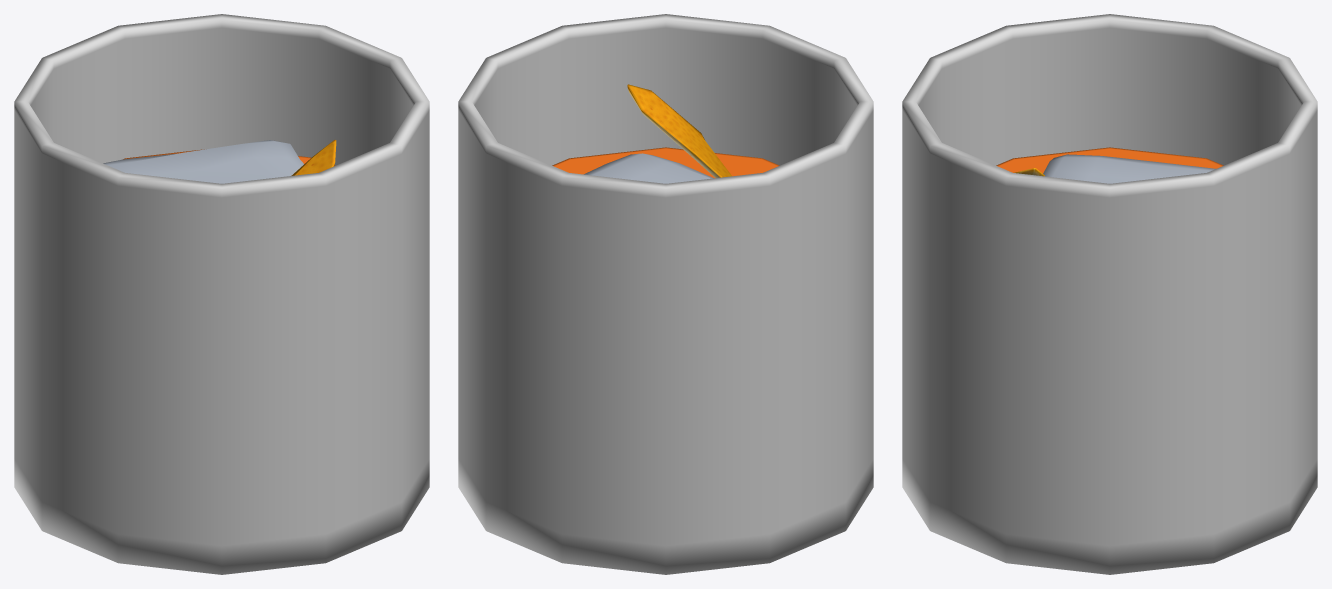
The model's file is Old_Fashioned_Low_Poly.obj.
3 renders of one model, left to right at view 1: azimuth 30°, elevation 25°; view 2: azimuth 150°, elevation 25°; view 3: azimuth 270°, elevation 25°, orthographic.
Parts seen in each view (by area): view 1: Whiskey_Glass_Cylinder.002, Ice_Cube_Cube, Orange_Peel_Plane.005; view 2: Whiskey_Glass_Cylinder.002, Orange_Peel_Plane.005, Whiskey_Liquid_Cylinder.003, Ice_Cube_Cube; view 3: Whiskey_Glass_Cylinder.002, Ice_Cube_Cube, Whiskey_Liquid_Cylinder.003.
Boxes of the visible parts, bbox=[...] form: Whiskey_Glass_Cylinder.002: bbox=[14, 14, 429, 574]; Ice_Cube_Cube: bbox=[103, 140, 303, 183]; Orange_Peel_Plane.005: bbox=[291, 140, 336, 175]; Whiskey_Glass_Cylinder.002: bbox=[458, 14, 873, 574]; Orange_Peel_Plane.005: bbox=[627, 84, 731, 177]; Whiskey_Liquid_Cylinder.003: bbox=[552, 147, 779, 178]; Ice_Cube_Cube: bbox=[584, 153, 713, 183]; Whiskey_Glass_Cylinder.002: bbox=[902, 14, 1317, 574]; Ice_Cube_Cube: bbox=[1043, 154, 1215, 183]; Whiskey_Liquid_Cylinder.003: bbox=[996, 147, 1223, 173].
Bounding box in the file's own units: 0.0785 × 0.0803 × 0.0785.
